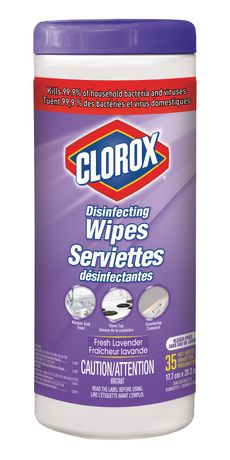Wipes: (27, 17, 201, 443)
